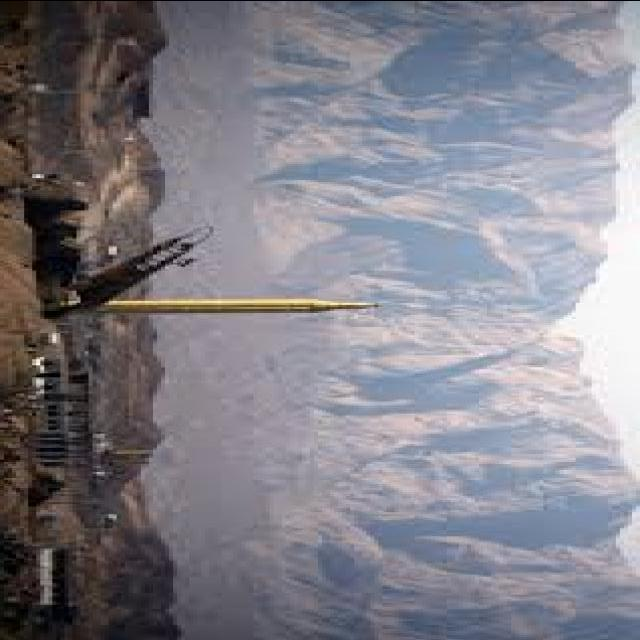missile: (100, 290, 380, 322)
